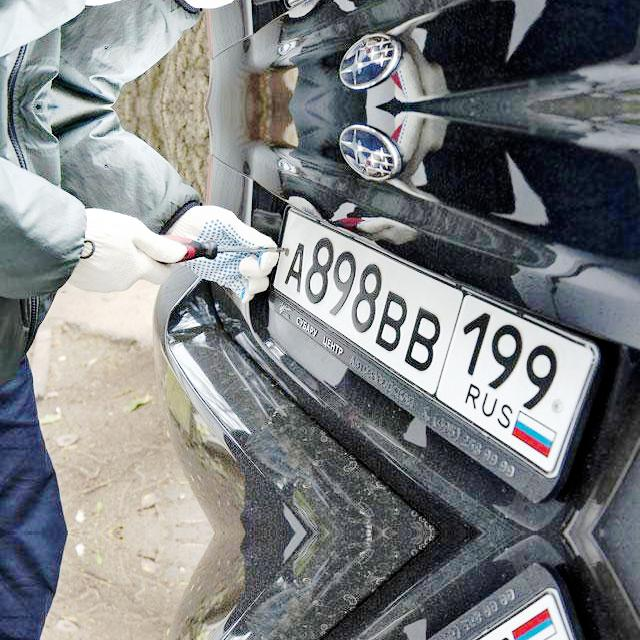citizen: (268, 200, 602, 498), (268, 567, 602, 640)
